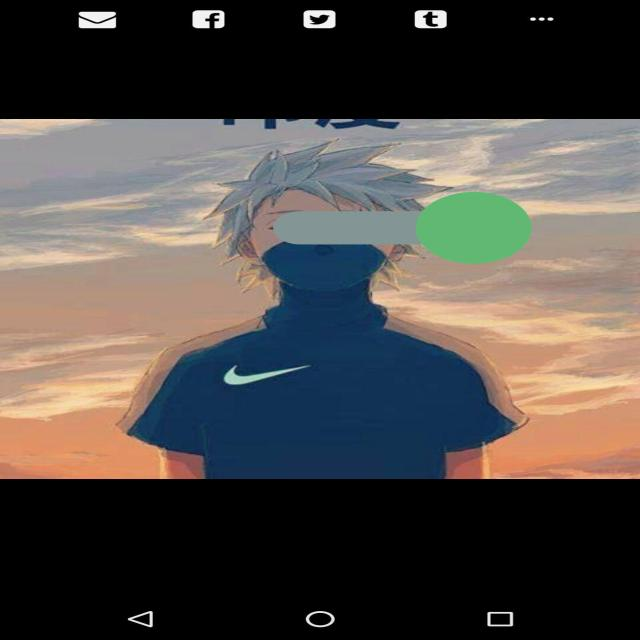social proof: (273, 148, 532, 308)
